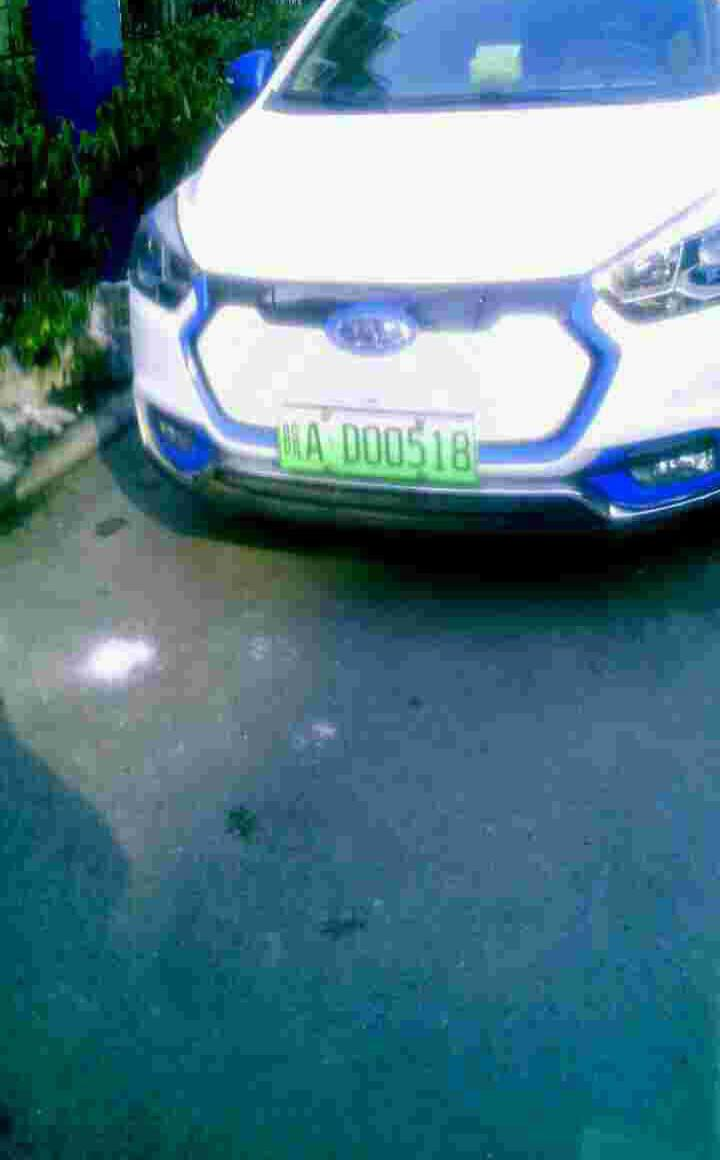car_id: (272, 407, 479, 481)
